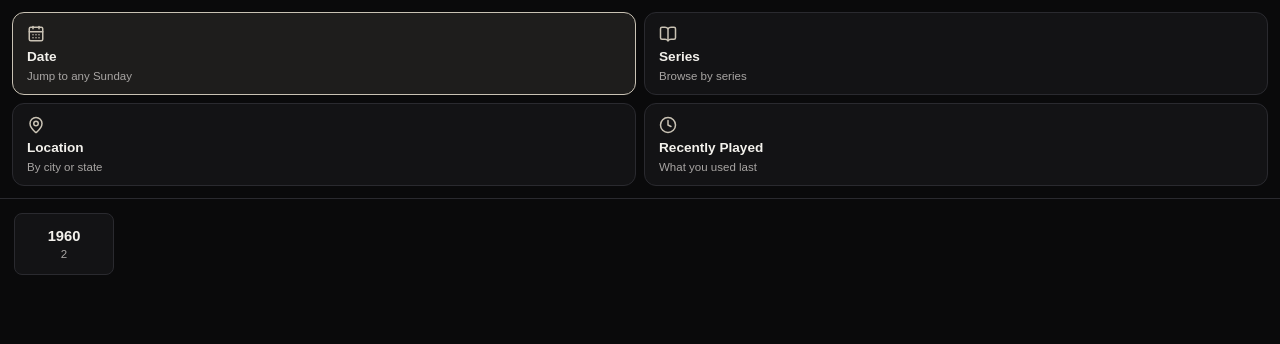
Test: BrowsePanel › switches to Location tab and loads the state list
Click the button "Location By city or state" at (55, 148), box [12, 103, 636, 186]
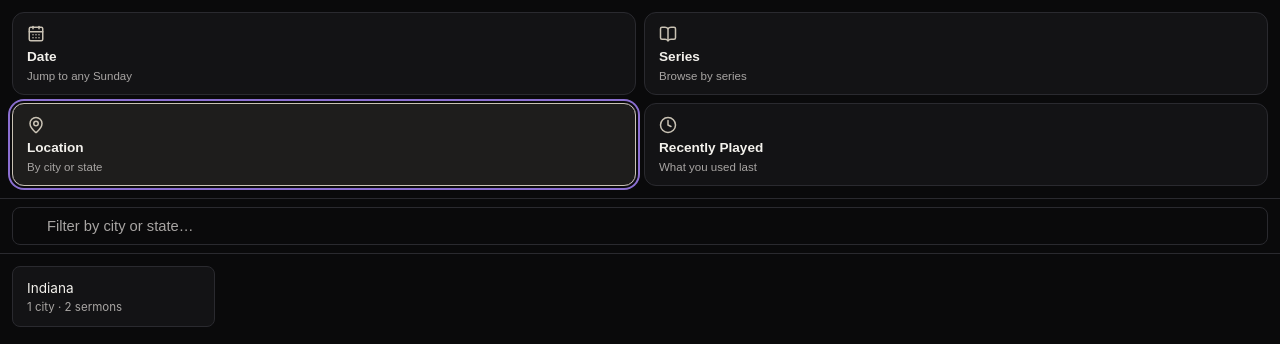
Now the text "Indiana" is shown, box [27, 280, 74, 296]
